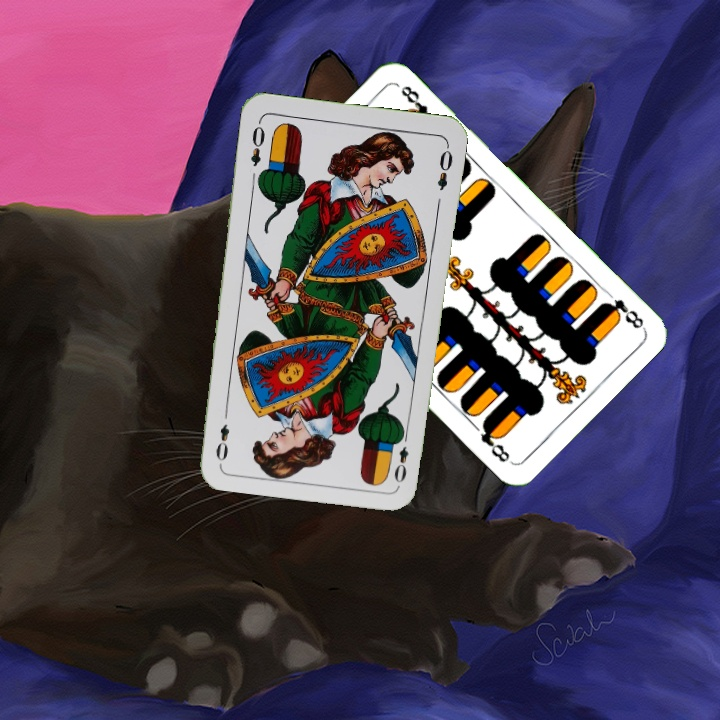E8: (597, 295, 647, 331)
EO: (390, 427, 411, 486), (246, 117, 268, 169)
